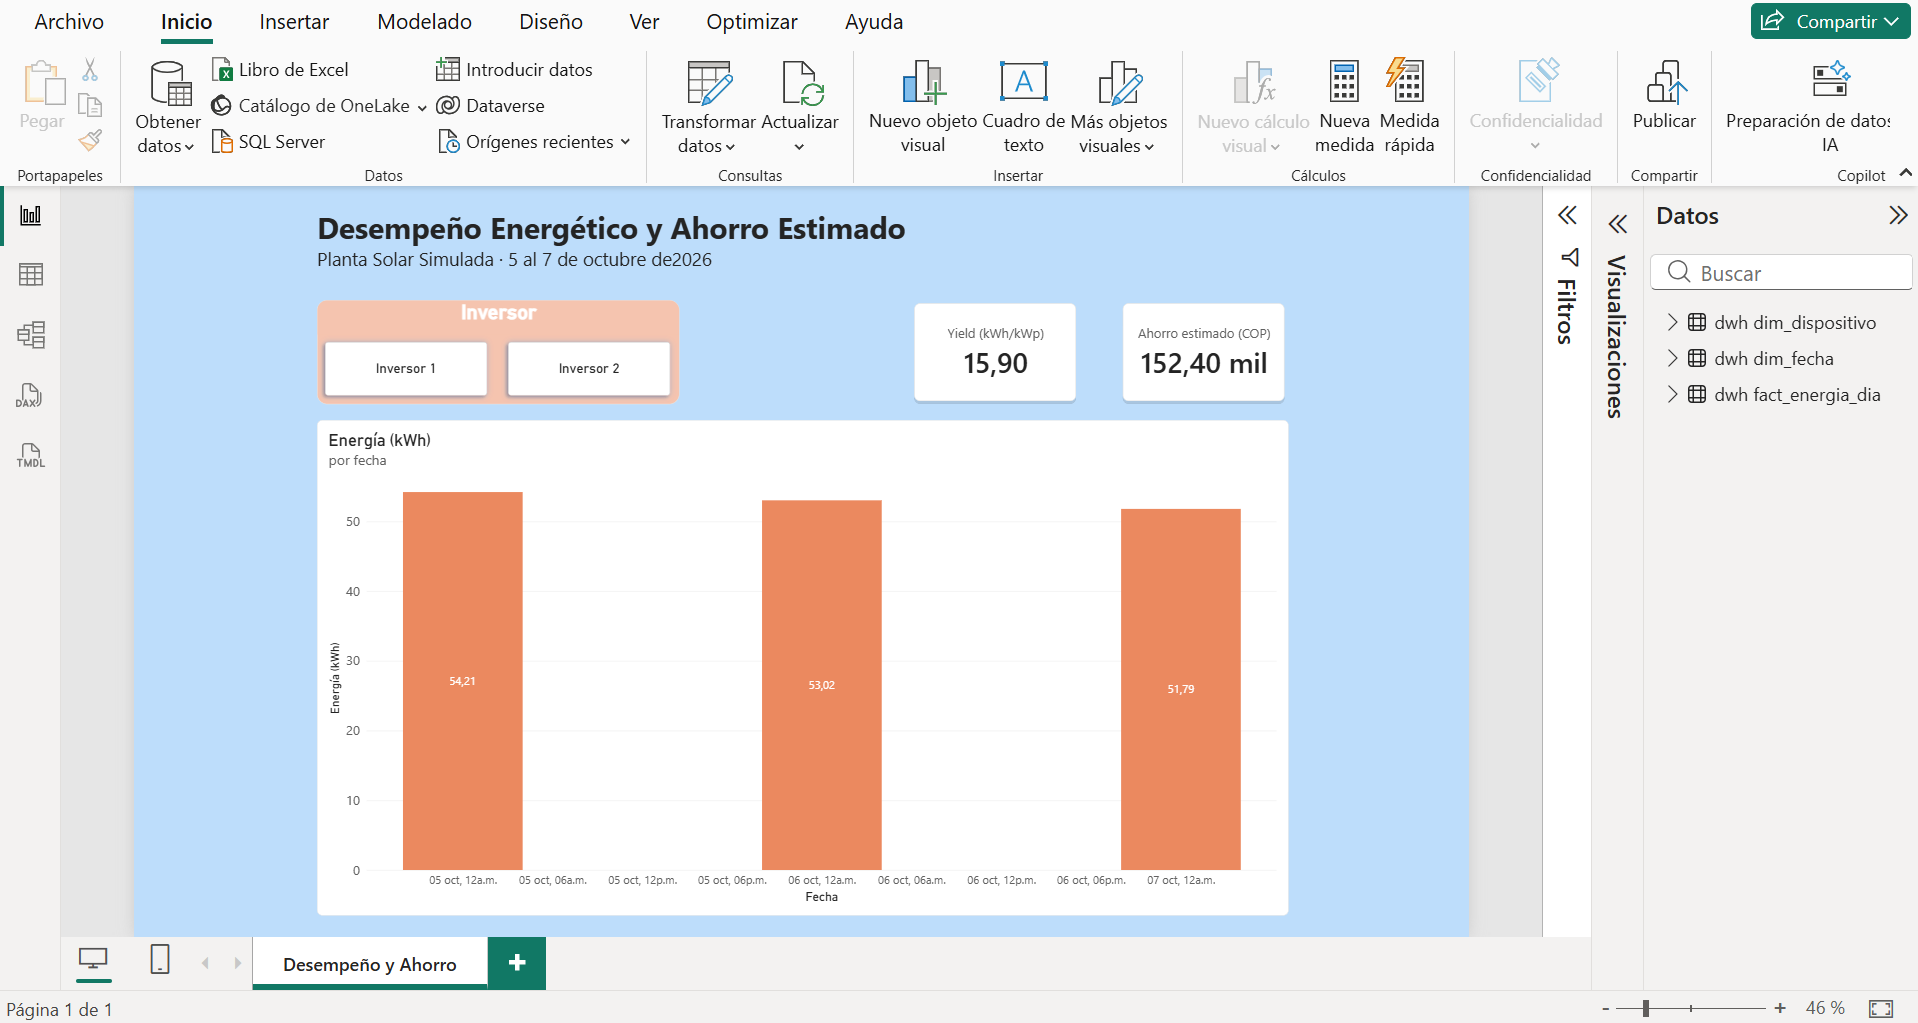

What the dashboard file says about the page in this screenshot:
{"tool":"powerbi","page":{"name":"Desempeño y Ahorro","canvas":[1920,1080],"ordinal":0},"visuals":[{"type":"cardVisual","fields":{"Data":["dwh fact_energia_dia.Yield (kWh/kWp)"]},"box":[1043.2,31.2,215.4,150.2],"z":0},{"type":"columnChart","fields":{"Category":["dwh dim_fecha.fecha.Variación.Jerarquía de fechas.Día"],"Y":["dwh fact_energia_dia.Energía (kWh)"]},"box":[263.6,201.3,1394.7,878.7],"z":1000},{"type":"cardVisual","fields":{"Data":["dwh fact_energia_dia.Ahorro estimado (COP)"]},"box":[1338,31.2,215.4,150.2],"z":1001},{"type":"advancedSlicerVisual","fields":{"Values":["dwh dim_dispositivo.nombre"]},"box":[334.5,31.2,462.1,150.2],"z":1002}]}

Visuals, with their boxes on the page's 1920x1080 design canvas (x1, y1, x2, y2). These are canvas units, not pixel positions in the 1918x1023 screenshot, which may show the page scaled, cropped or inside an application window:
cardVisual - dwh fact_energia_dia.Yield (kWh/kWp): select_region(1043, 31, 1259, 181)
columnChart - dwh dim_fecha.fecha.Variación.Jerarquía de fechas.Día x dwh fact_energia_dia.Energía (kWh): select_region(264, 201, 1658, 1080)
cardVisual - dwh fact_energia_dia.Ahorro estimado (COP): select_region(1338, 31, 1553, 181)
advancedSlicerVisual - dwh dim_dispositivo.nombre: select_region(334, 31, 797, 181)
